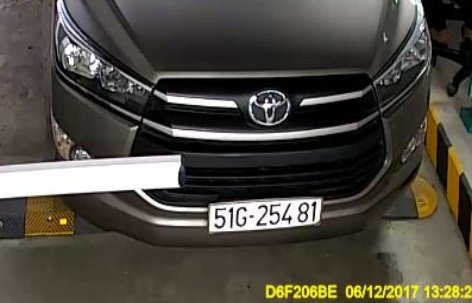plate: (203, 187, 324, 238)
